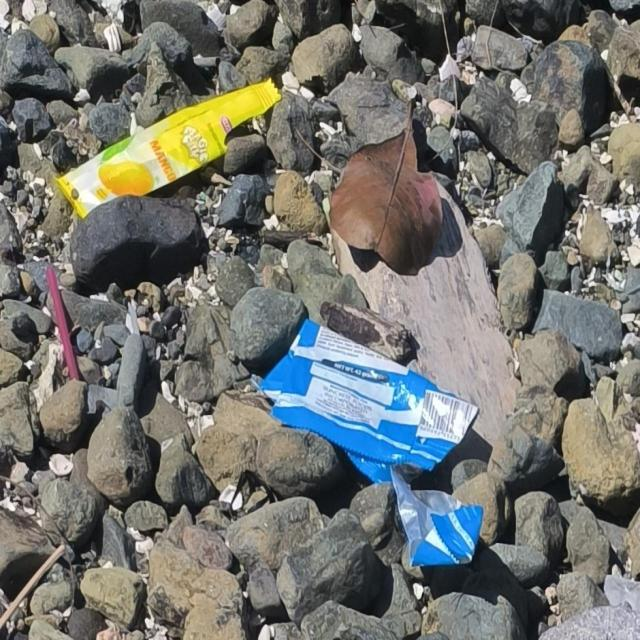plastic_waste: (251, 317, 486, 569), (53, 76, 283, 220), (46, 266, 80, 380)
